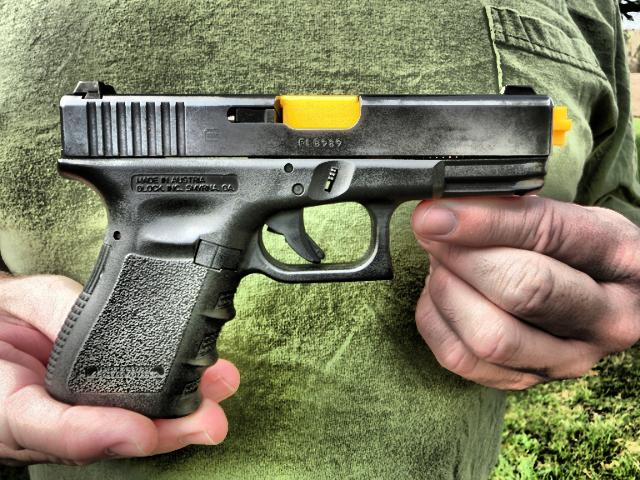pistol: (36, 81, 572, 411)
